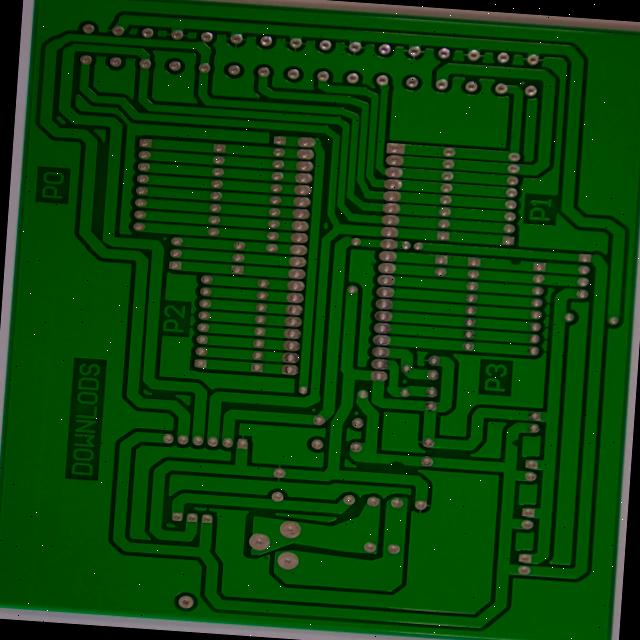mouse_bite: (494, 455, 509, 474), (491, 266, 511, 280), (365, 480, 387, 492)
